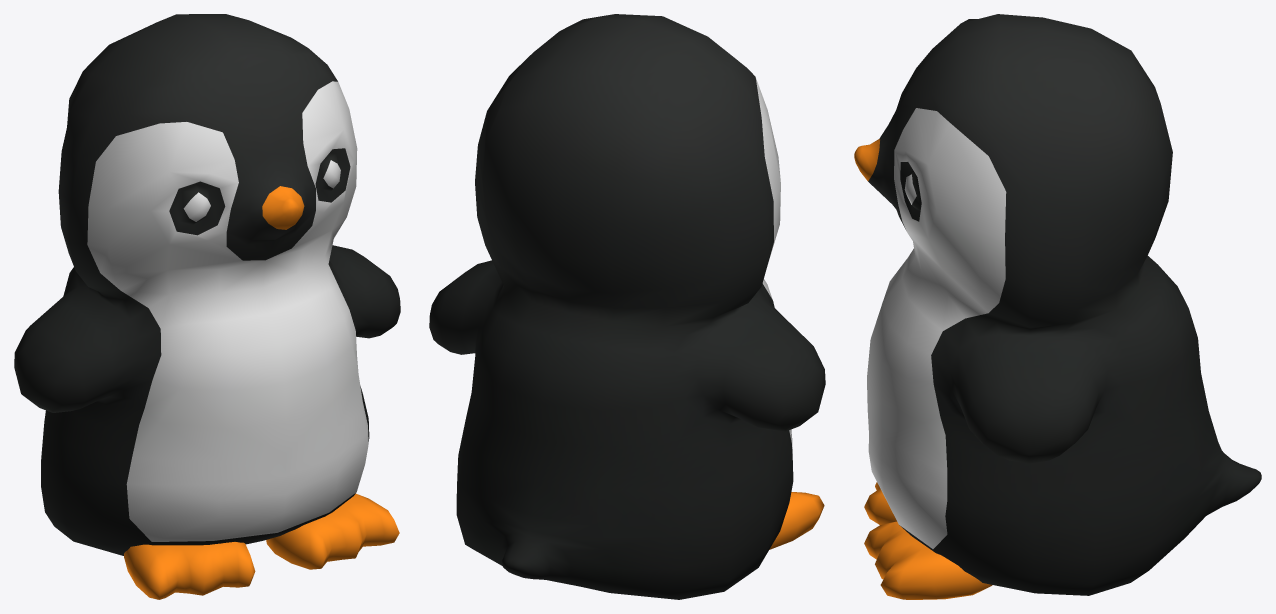
File: Toy_Penguin.fbx
The picture shows the model from 3 angles, left to right: view 1: azimuth 30°, elevation 25°; view 2: azimuth 150°, elevation 25°; view 3: azimuth 270°, elevation 25°; orthographic projection. The views are drawn at different scales.
Visible parts, largest first — view 1: Toy_Penguin; view 2: Toy_Penguin; view 3: Toy_Penguin.
Boxes of the visible parts, x1=… form: Toy_Penguin: x1=14, y1=14, x2=400, y2=599; Toy_Penguin: x1=429, y1=14, x2=825, y2=599; Toy_Penguin: x1=854, y1=14, x2=1261, y2=599.
Bounding box in the file's own units: 0.2049 × 0.2676 × 0.1895.
